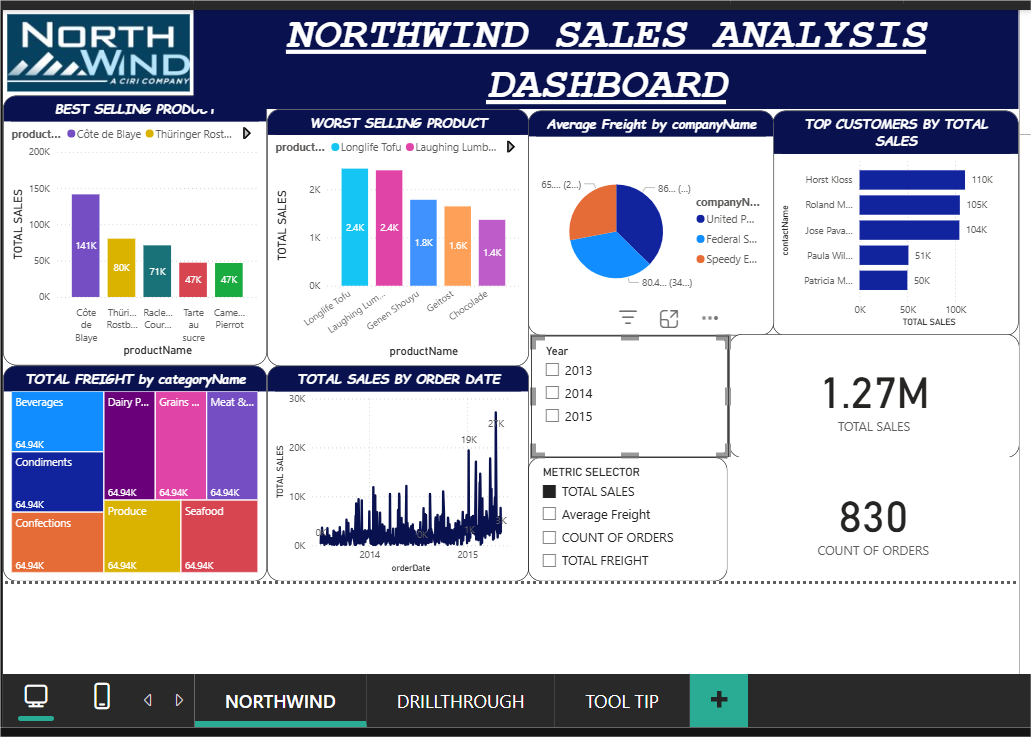

The page's visual inventory and layout, read from the dashboard file:
{"tool":"powerbi","page":{"name":"NORTHWIND","canvas":[1280,720],"ordinal":0},"visuals":[{"type":"lineChart","title":"TOTAL SALES  BY ORDER DATE","fields":{"Category":["orders.orderDate"],"Y":["order_details.TOTAL SALES"]},"box":[332,448,330,272],"z":0},{"type":"columnChart","title":"BEST SELLING PRODUCT","fields":{"Category":["products.productName"],"Y":["order_details.TOTAL SALES"],"Series":["products.productName"]},"box":[0,107.7,332.6,340.2],"z":1000},{"type":"clusteredBarChart","title":"TOP CUSTOMERS BY TOTAL SALES","fields":{"Y":["order_details.TOTAL SALES"],"Category":["customers.contactName"]},"box":[970,126,310,284],"z":2000},{"type":"pieChart","fields":{"Category":["shippers.companyName"],"Y":["orders.Average Freight"]},"box":[661.4,126.6,309.9,283.5],"z":3000},{"type":"slicer","fields":{"Values":["METRIC SELECTOR.METRIC SELECTOR"]},"box":[661.4,563.2,251.3,156.9],"z":4000},{"type":"card","fields":{"Values":["order_details.TOTAL SALES"]},"box":[914,408,366,156],"z":5000},{"type":"treemap","fields":{"Group":["categories.categoryName"],"Values":["categories.TOTAL FREIGHT"]},"box":[0,447.9,332.6,272.1],"z":6000},{"type":"textbox","title":"NORTHWIND SALES ANALYSIS DASHBOARD","box":[240,0,1039.4,124.7],"z":7000},{"type":"slicer","fields":{"Values":["orders.orderDate.Variation.Date Hierarchy.Year"]},"box":[666,410,248,154],"z":8000},{"type":"columnChart","title":"WORST SELLING PRODUCT","fields":{"Category":["products.productName"],"Y":["order_details.TOTAL SALES"],"Series":["products.productName"]},"box":[332,124,330,324],"z":9000},{"type":"image","box":[0,0,240,107.7],"z":10000},{"type":"card","fields":{"Values":["categories.COUNT OF ORDERS"]},"box":[912.8,563.2,366.6,156.9],"z":11000}]}

Visuals, with their boxes on the page's 1280x720 design canvas (x1, y1, x2, y2). These are canvas units, not pixel positions in the 1031x737 screenshot, which may show the page scaled, cropped or inside an application window:
"TOTAL SALES  BY ORDER DATE" lineChart: {"left": 332, "top": 448, "right": 662, "bottom": 720}
"BEST SELLING PRODUCT" columnChart: {"left": 0, "top": 108, "right": 333, "bottom": 448}
"TOP CUSTOMERS BY TOTAL SALES" clusteredBarChart: {"left": 970, "top": 126, "right": 1280, "bottom": 410}
pieChart - shippers.companyName x orders.Average Freight: {"left": 661, "top": 127, "right": 971, "bottom": 410}
slicer - METRIC SELECTOR.METRIC SELECTOR: {"left": 661, "top": 563, "right": 913, "bottom": 720}
card - order_details.TOTAL SALES: {"left": 914, "top": 408, "right": 1280, "bottom": 564}
treemap - categories.categoryName x categories.TOTAL FREIGHT: {"left": 0, "top": 448, "right": 333, "bottom": 720}
"NORTHWIND SALES ANALYSIS DASHBOARD" textbox: {"left": 240, "top": 0, "right": 1279, "bottom": 125}
slicer - orders.orderDate.Variation.Date Hierarchy.Year: {"left": 666, "top": 410, "right": 914, "bottom": 564}
"WORST SELLING PRODUCT" columnChart: {"left": 332, "top": 124, "right": 662, "bottom": 448}
image: {"left": 0, "top": 0, "right": 240, "bottom": 108}
card - categories.COUNT OF ORDERS: {"left": 913, "top": 563, "right": 1279, "bottom": 720}
